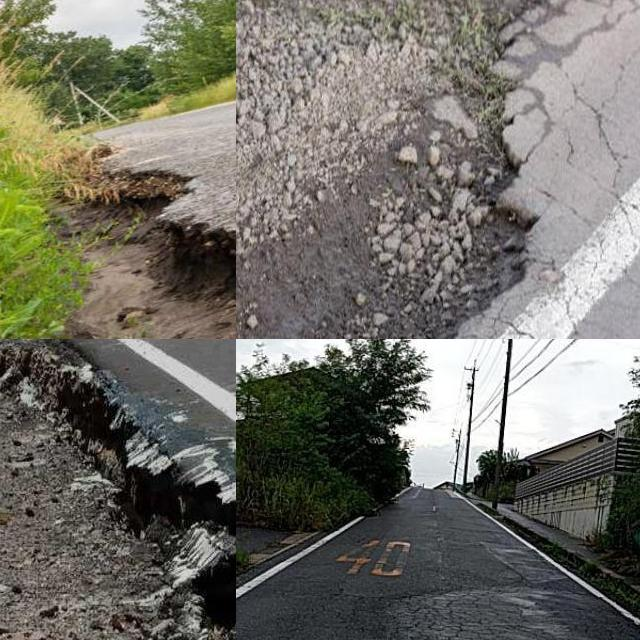Pinggir: (236, 18, 544, 339), (0, 339, 236, 640), (46, 135, 236, 339)
